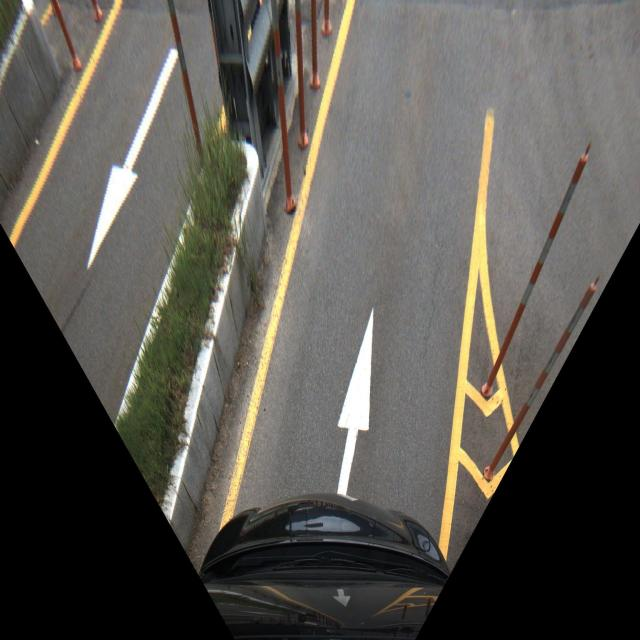forward: (262, 300, 465, 480)
